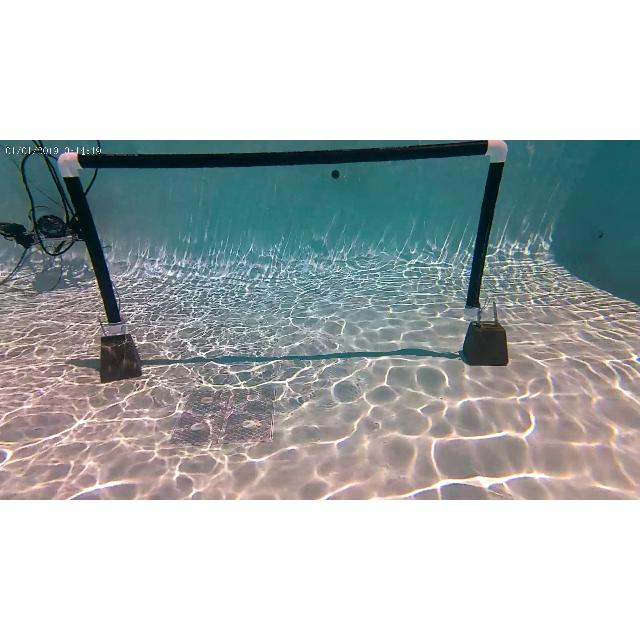prequal gate: (58, 140, 506, 336)
prequal gate leg l: (56, 148, 124, 332)
prequal gate leg r: (463, 140, 507, 320)
